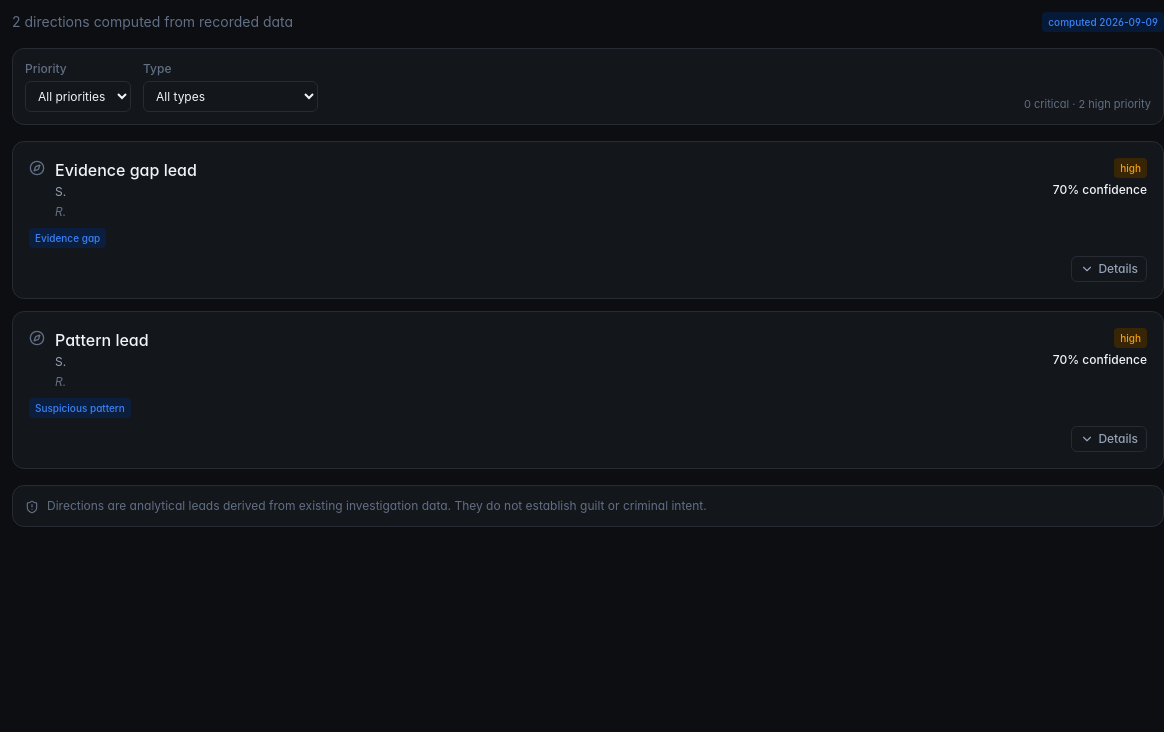
Test: InvestigationDirectionsTab — detail panel & filters (Phase 27) › filters directions by type client-side
Expected: the text "Evidence gap lead" is shown, top-left (55, 158), bottom-right (197, 182)
Expected: the text "Pattern lead" is shown, top-left (55, 328), bottom-right (149, 352)
Select "Evidence gap" in the dropdown with test id "direction-filter-type". click: point(230, 96)
box: top-left (143, 81), bottom-right (318, 112)
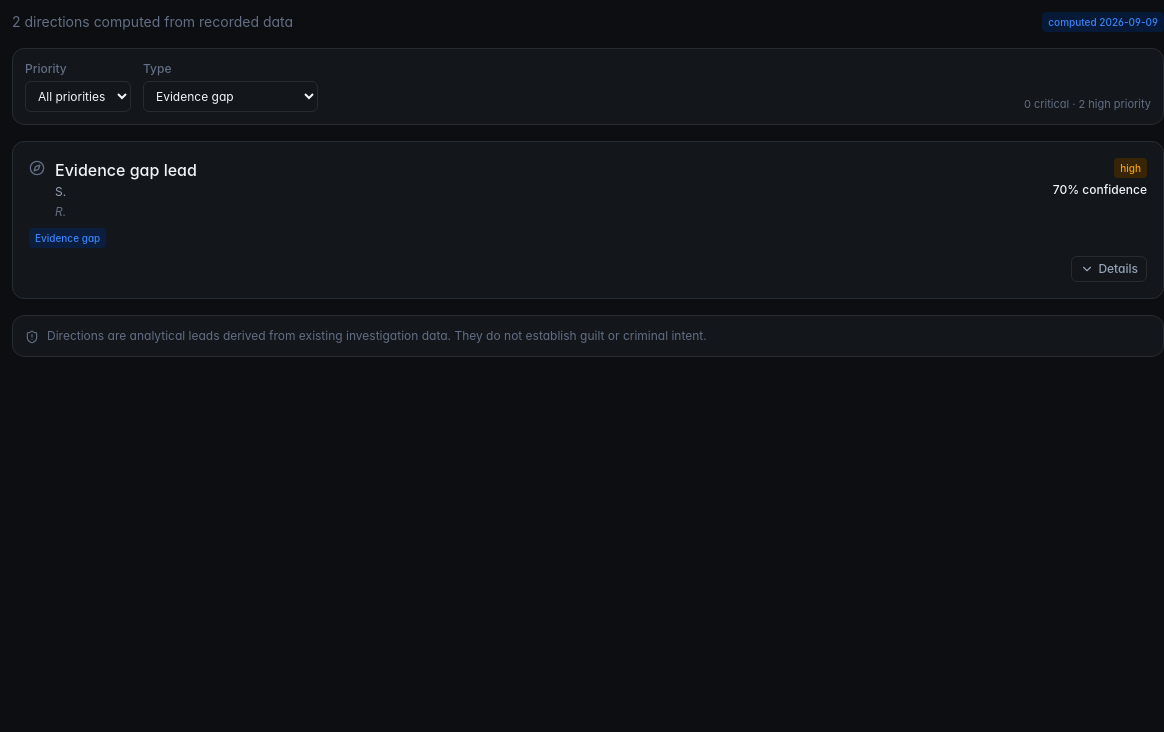
Expected: the text "Evidence gap lead" is shown, top-left (55, 158), bottom-right (197, 182)
Expected: the button "Pattern lead" is gone
